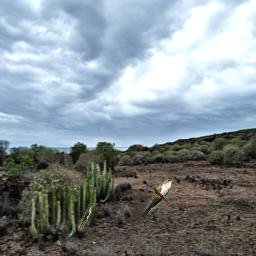Cuckoo: (140, 179, 176, 219), (78, 203, 94, 231)
